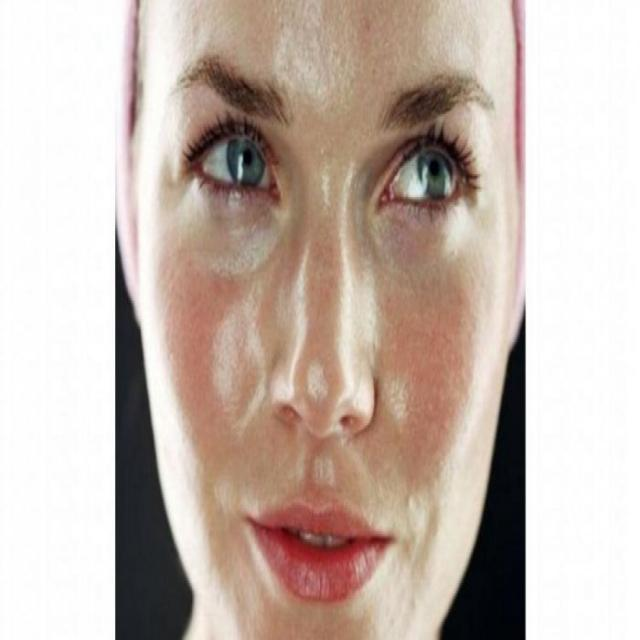Oily-Skin: (337, 162, 380, 427), (270, 3, 358, 106), (213, 288, 265, 443), (269, 244, 309, 408), (203, 212, 290, 276), (385, 374, 409, 431), (307, 361, 329, 404), (314, 459, 336, 492)
